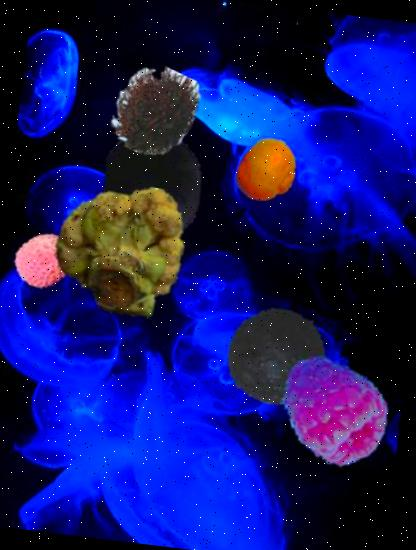Avocado: (219, 295, 340, 416)
Cauliflower: (45, 174, 197, 326)
Grape: (90, 125, 214, 250)
Lychee: (10, 226, 79, 294)
Mandarine: (230, 134, 305, 208)
Rambutan: (104, 62, 206, 162)
Raspberry: (268, 348, 396, 477)
